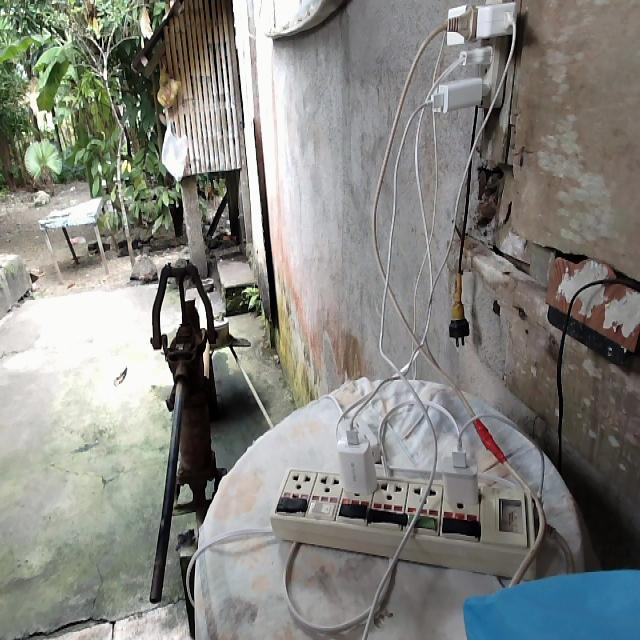-: (423, 0, 521, 113)
